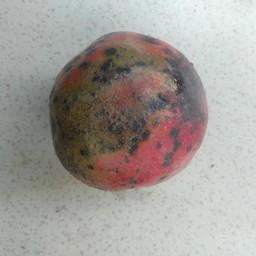Bad_pomegranate: (45, 33, 211, 200)
